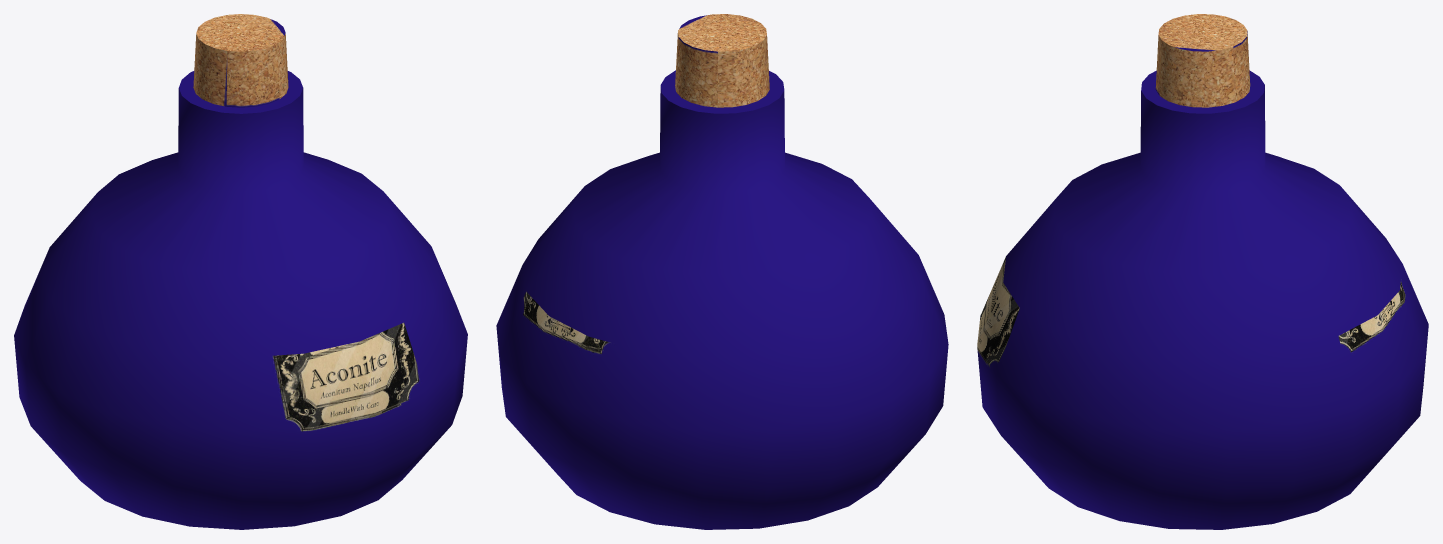
Rendered from potion Blue.fbx.
3 views of the same model, side by side, from view 1: azimuth 30°, elevation 25°; view 2: azimuth 150°, elevation 25°; view 3: azimuth 270°, elevation 25° (orthographic).
Visible parts, largest first — view 1: pasted__pCylinder9; view 2: pasted__pCylinder9; view 3: pasted__pCylinder9.
Boxes of the visible parts, x1,y1,x2,y2 form: pasted__pCylinder9: (14,14,467,529); pasted__pCylinder9: (496,14,948,529); pasted__pCylinder9: (977,14,1428,529).
Bounding box in the file's own units: 0.6808 × 0.7691 × 0.6808.
